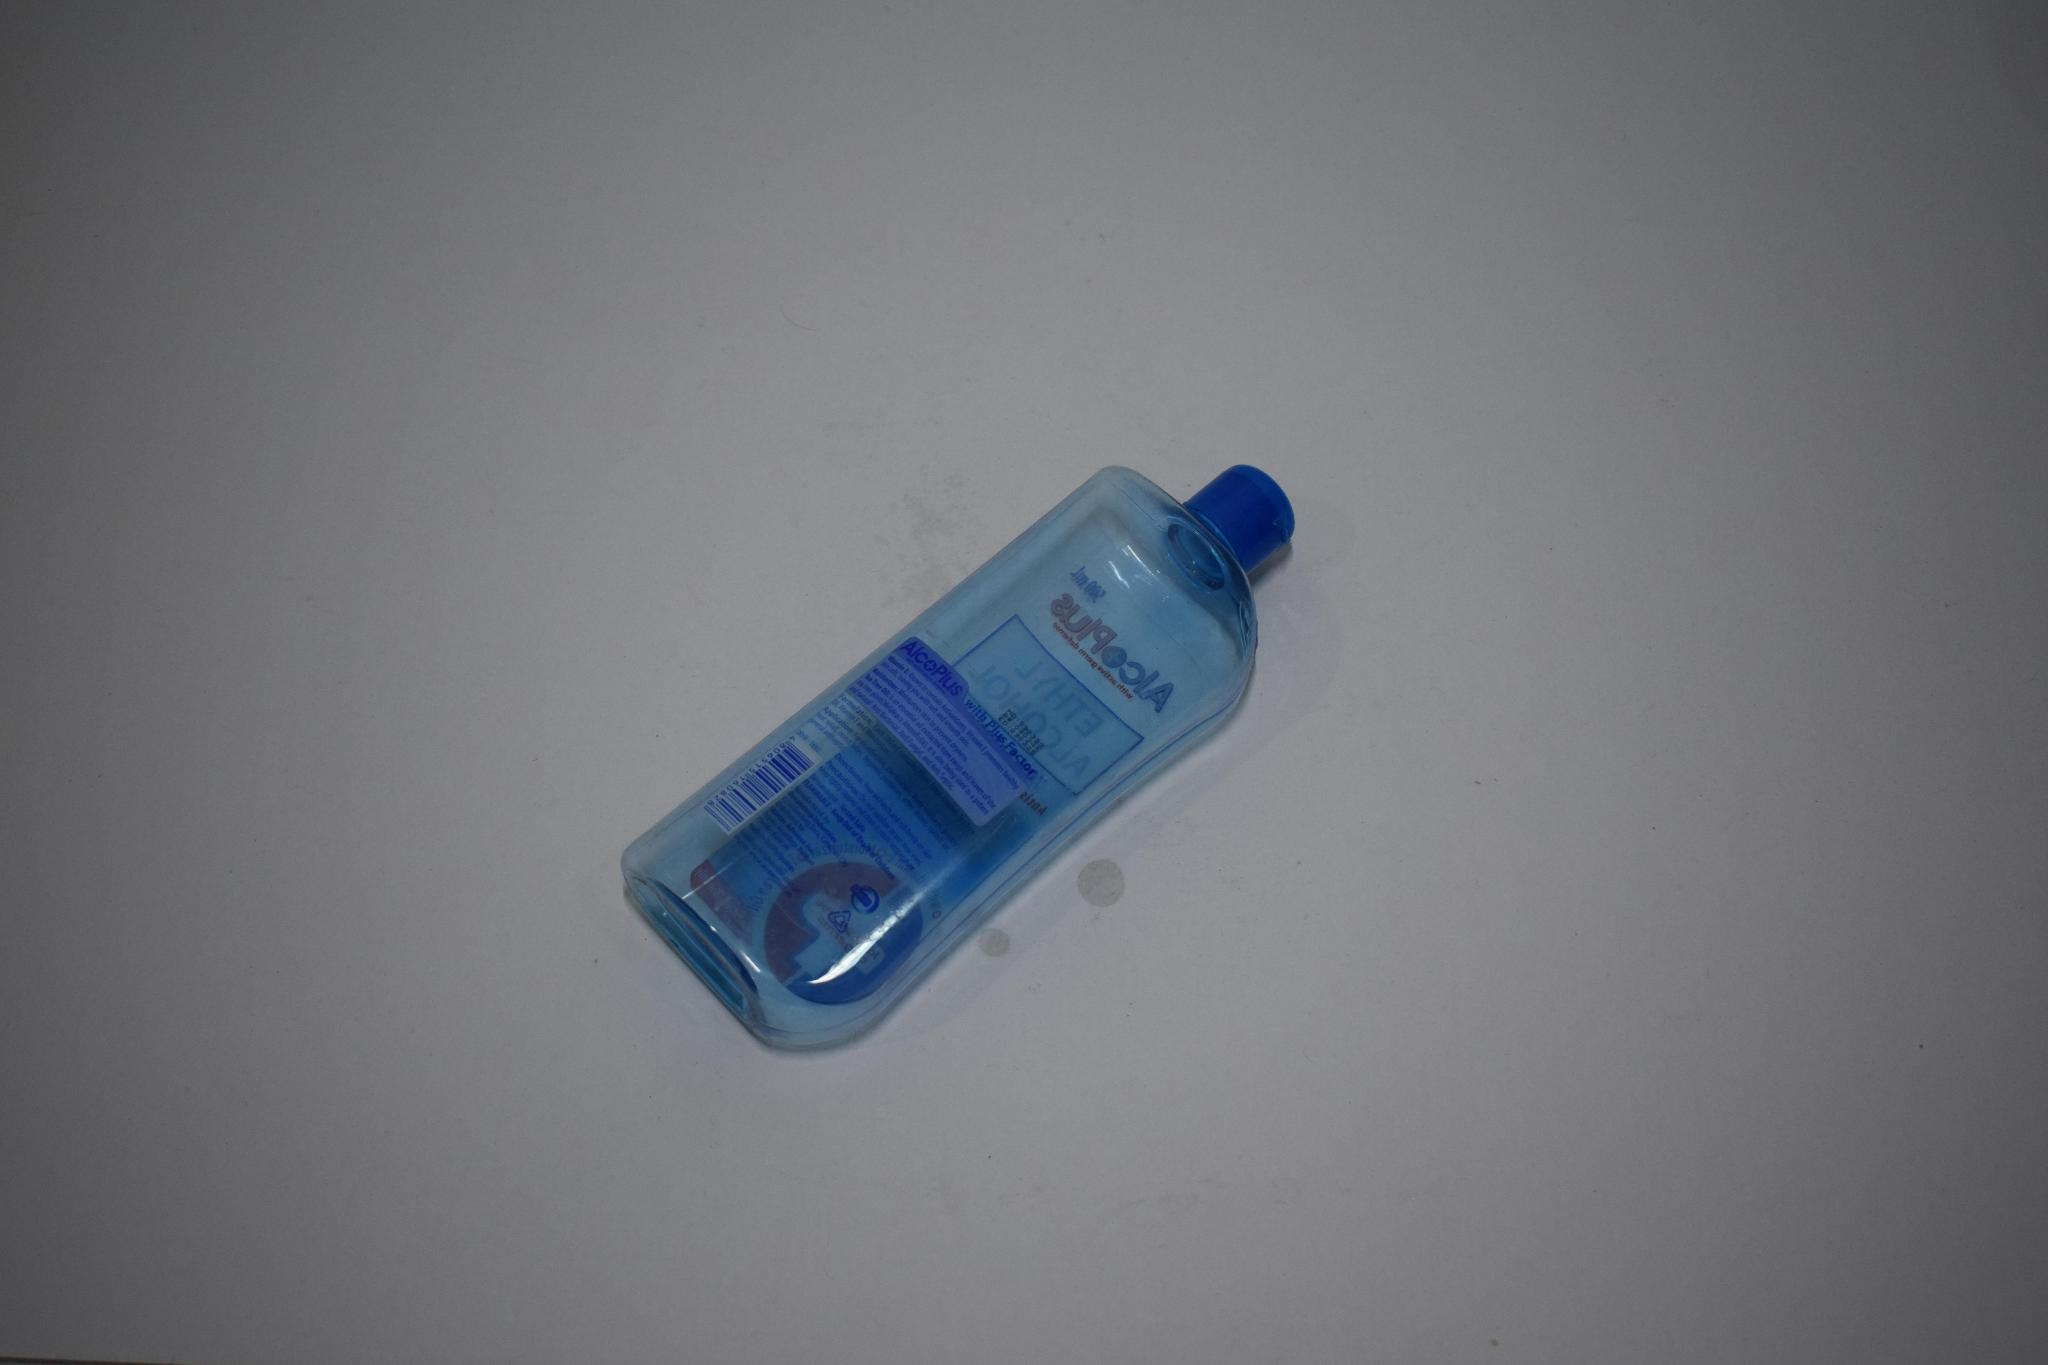bottle: (621, 463, 1287, 1051)
